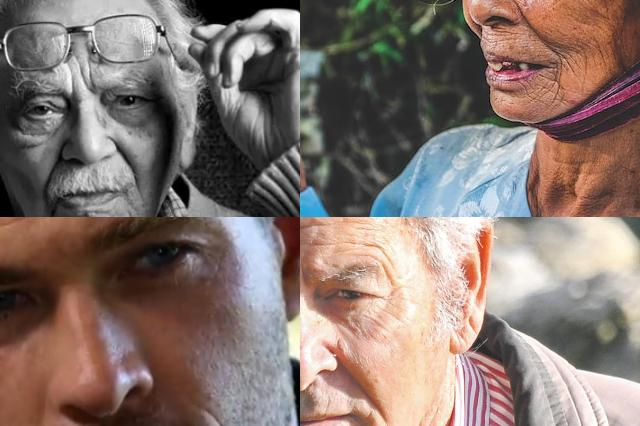chin: (531, 82, 565, 108), (81, 212, 105, 217)
forehead: (366, 235, 398, 280), (11, 217, 86, 223)
frown_line: (62, 67, 98, 95), (300, 254, 312, 288)
gummy_smile: (340, 362, 376, 410), (513, 4, 541, 38), (110, 140, 136, 174), (42, 148, 62, 188)
sad_smile: (554, 45, 592, 79), (44, 201, 59, 217)
smoker_lines: (480, 30, 508, 50)
